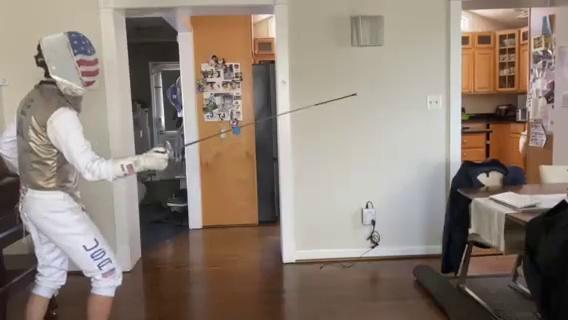blade-guard: (164, 139, 175, 162)
blade-tip: (312, 90, 359, 108)
fencing-blade: (151, 88, 361, 162)
